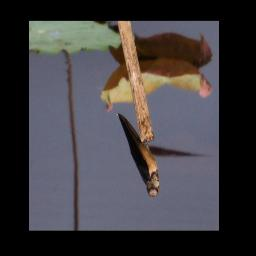Swallow: (117, 110, 160, 198)
